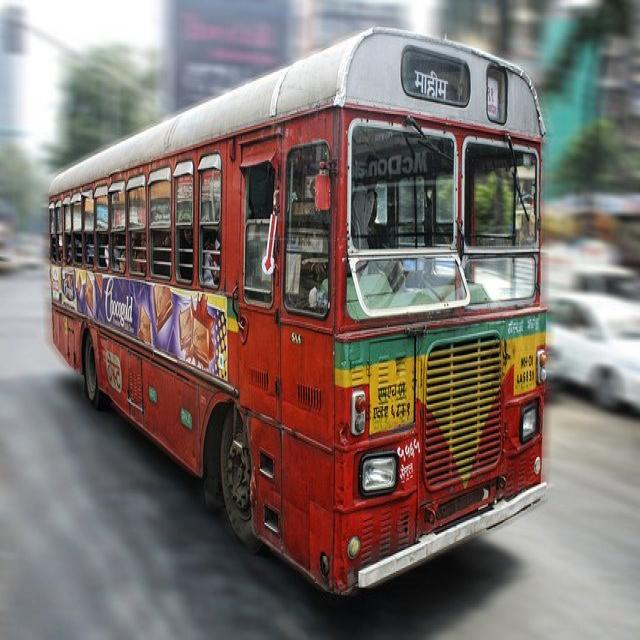bus: (51, 30, 546, 593)
